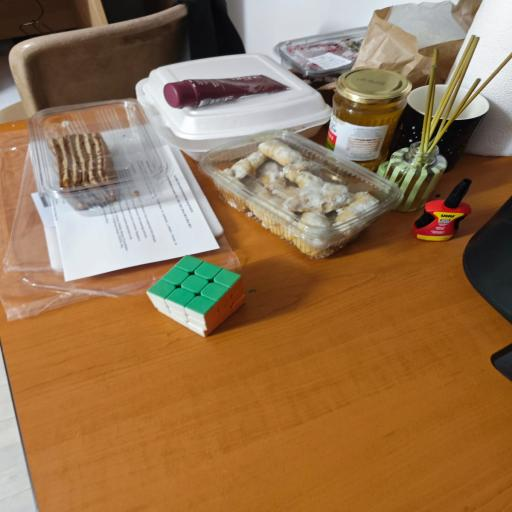Crema Maini: (159, 74, 292, 111)
Rubiks Cube: (143, 256, 248, 340)
Super Glue: (410, 174, 474, 244)
